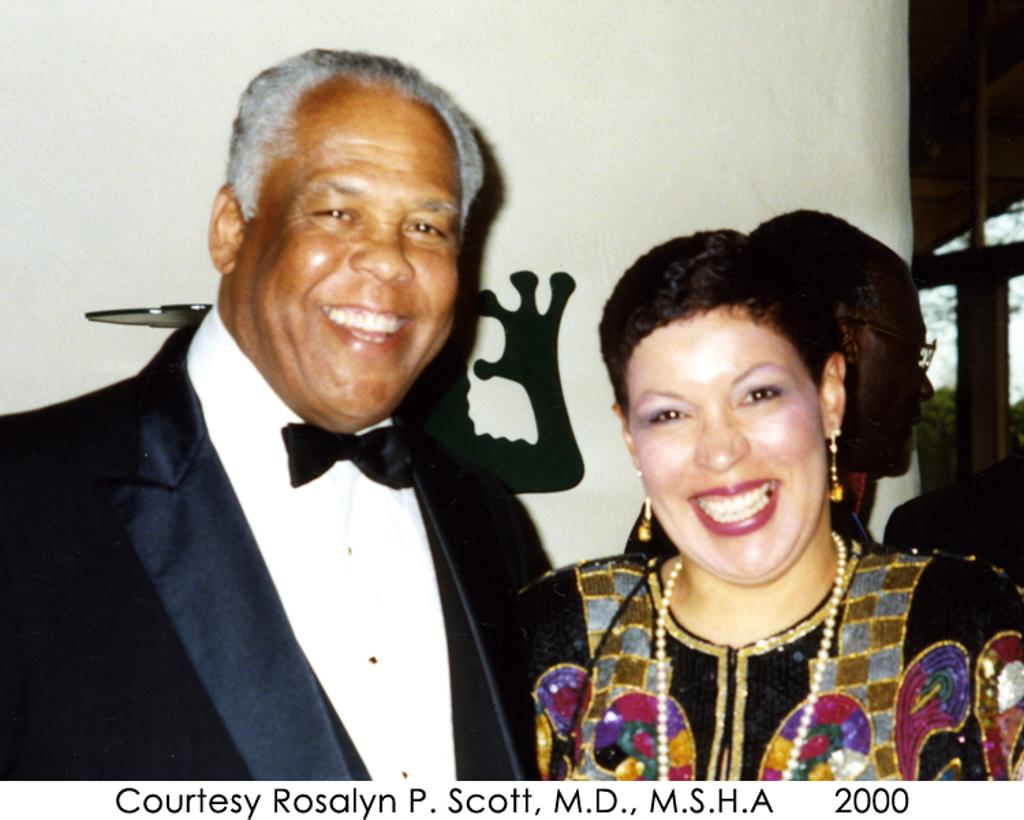face: (270, 100, 460, 422), (628, 330, 814, 578)
